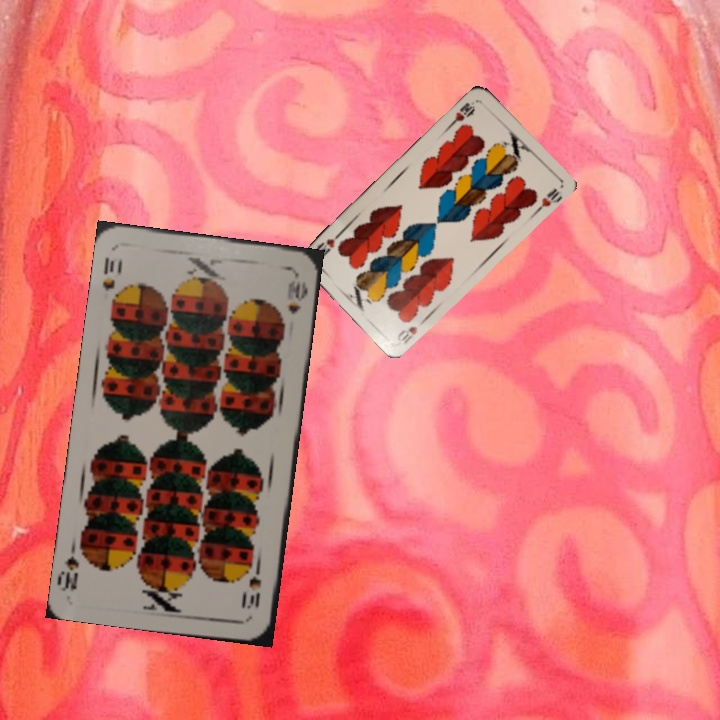H10: (393, 315, 428, 347), (446, 98, 478, 129)
S10: (241, 559, 264, 612), (98, 253, 118, 293)
